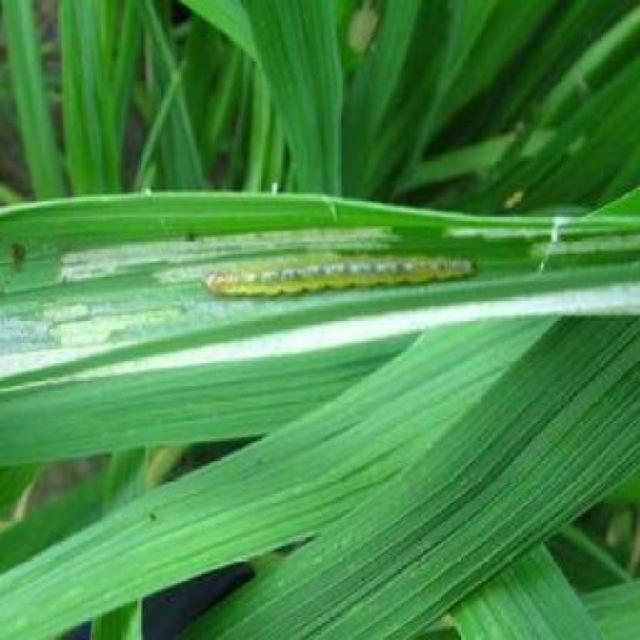leaf-folder: (190, 234, 493, 320)
